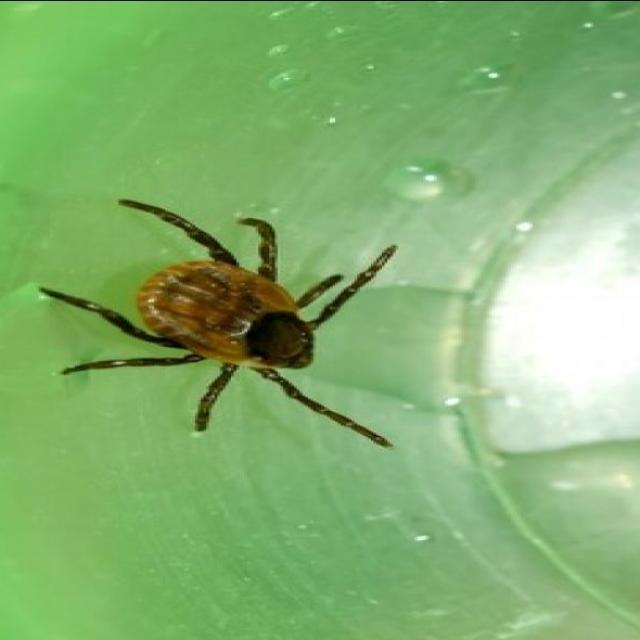Rhipicephalus Sanguineus-F: (44, 200, 396, 445)
